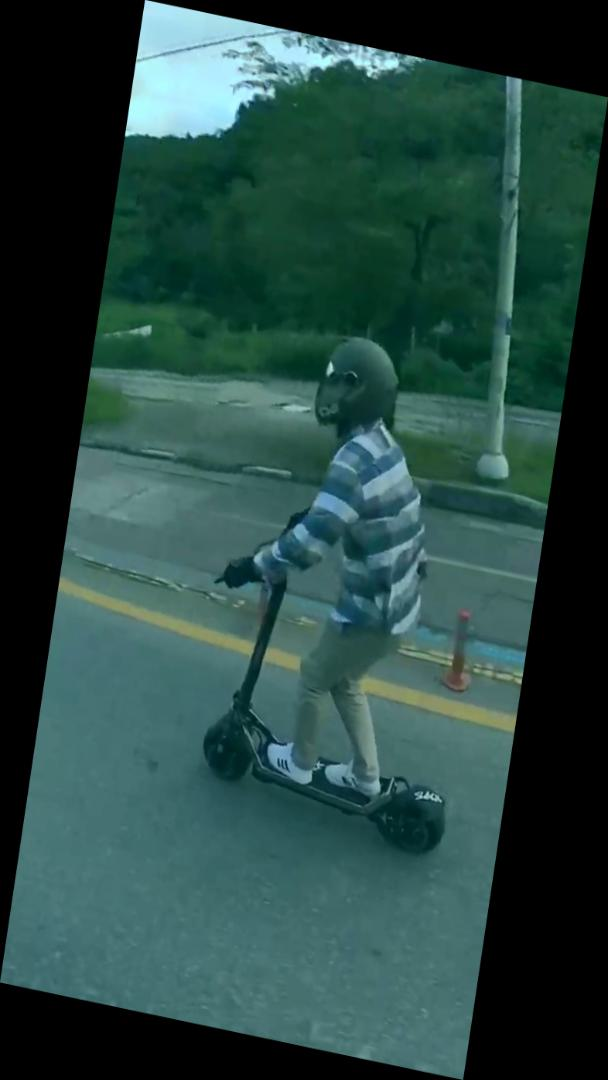helmet: (179, 311, 516, 865)
